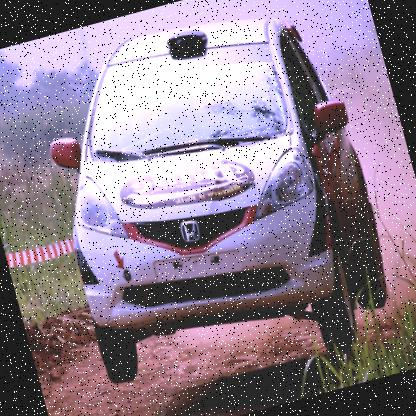Car: (24, 0, 406, 409)
